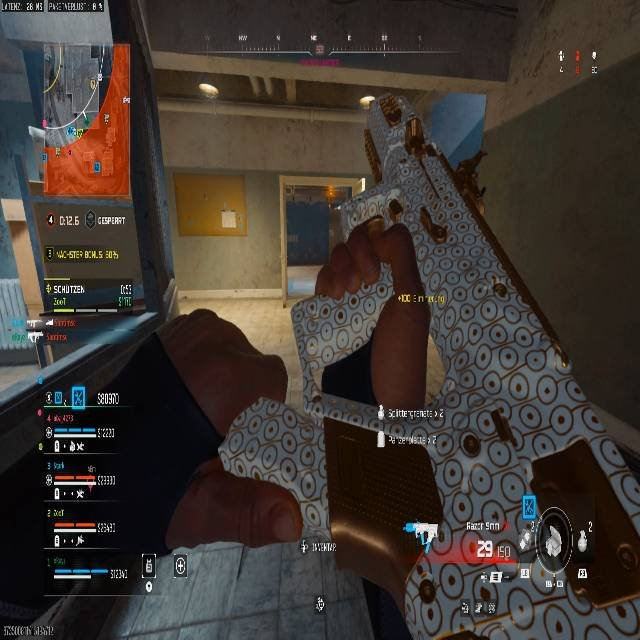player: (84, 63, 619, 640)
